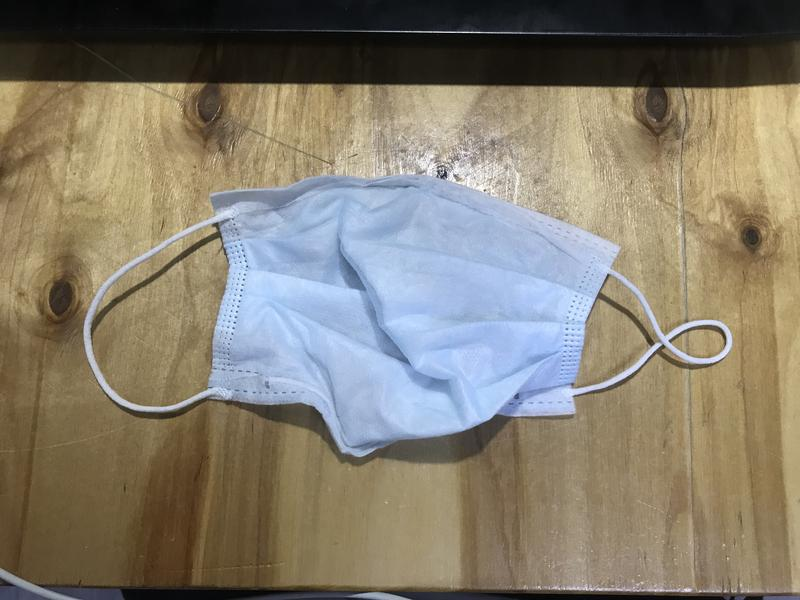medical_mask: (82, 174, 732, 455)
